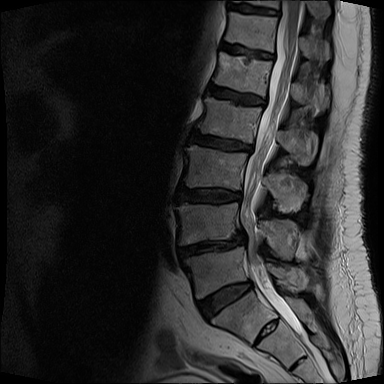Lumbar Disc Bulge (LDB): (192, 275, 257, 328), (175, 224, 252, 263), (202, 77, 271, 113), (183, 127, 257, 158), (173, 185, 248, 208)
Spinal Stenosis (SS): (230, 223, 253, 251), (263, 42, 283, 68), (240, 139, 261, 160), (255, 88, 272, 113), (270, 5, 288, 25)
Spondylolisthesis: (170, 220, 263, 282)
Thoracic Disc Bulge (TDB): (216, 38, 278, 63), (223, 1, 283, 21)
